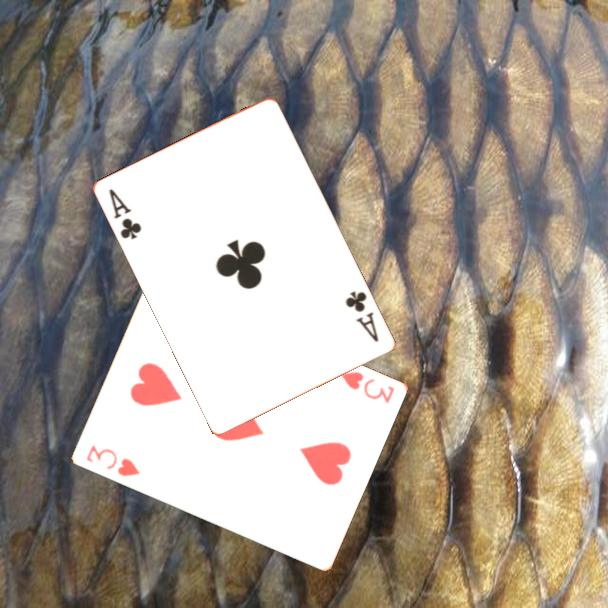c01: (342, 288, 382, 345), (106, 185, 145, 243)
h03: (82, 441, 143, 480), (337, 368, 397, 407)
